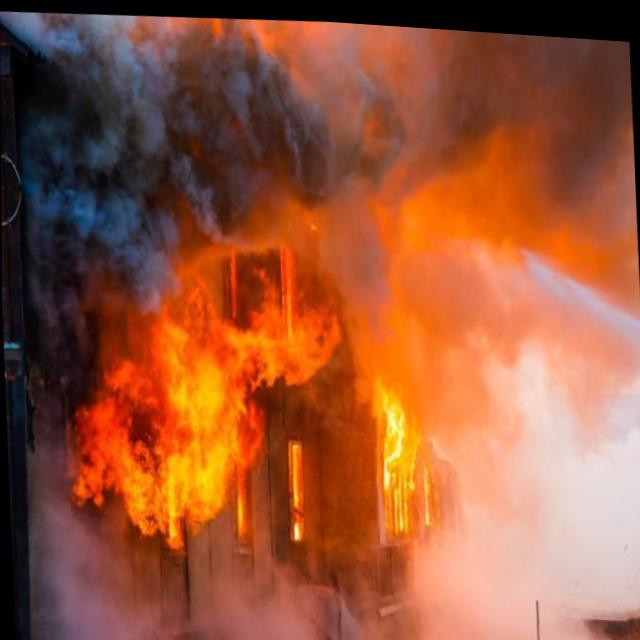fire: (44, 181, 361, 575), (365, 362, 425, 531)
